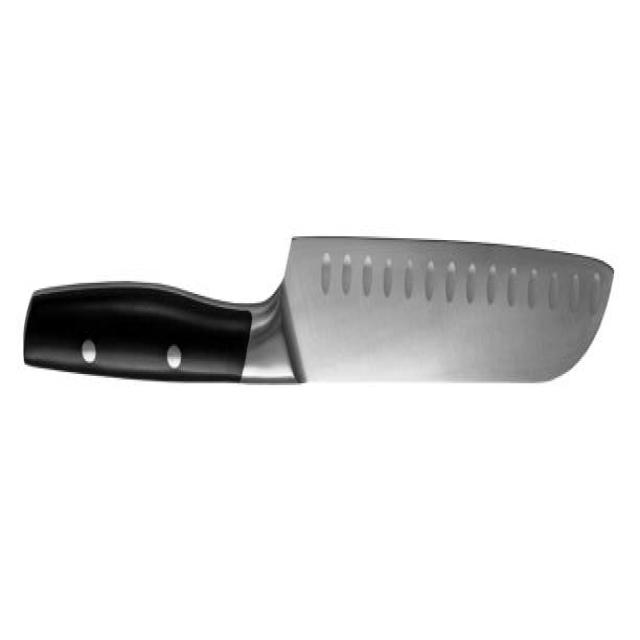knife: (21, 221, 620, 394)
